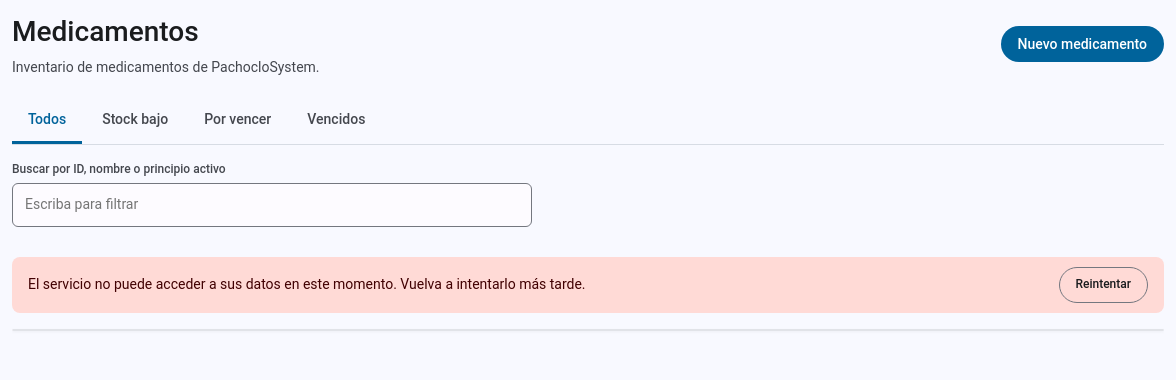
Test case: interfaz React de medicamentos › muestra el error del servicio y permite reintentar
The image size is (1176, 380).
Expected: the text "El servicio no puede acceder a sus datos en este momento. Vuelva a intentarlo más tarde." is shown, [28,276,586,292]
Click the button "Reintentar".
click(1103, 285)  # box [1058,267,1148,303]
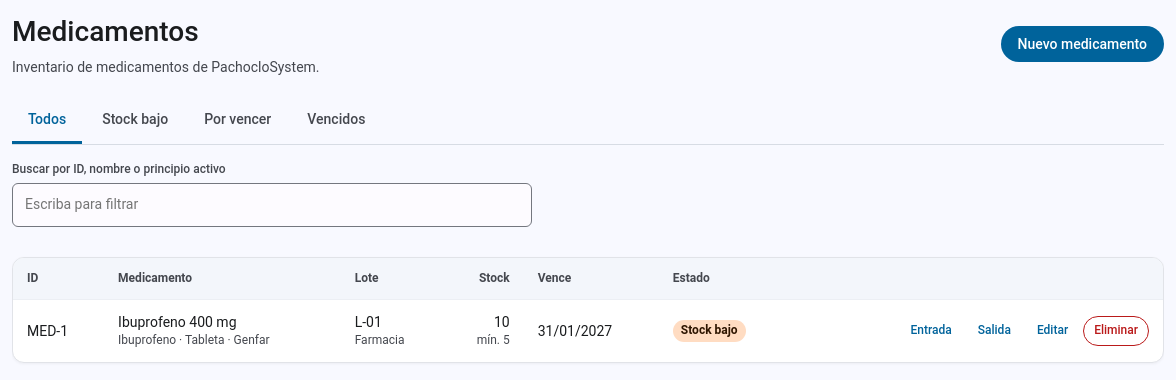
Expected: the text "Ibuprofeno 400 mg" is shown, [118,314,236,330]
